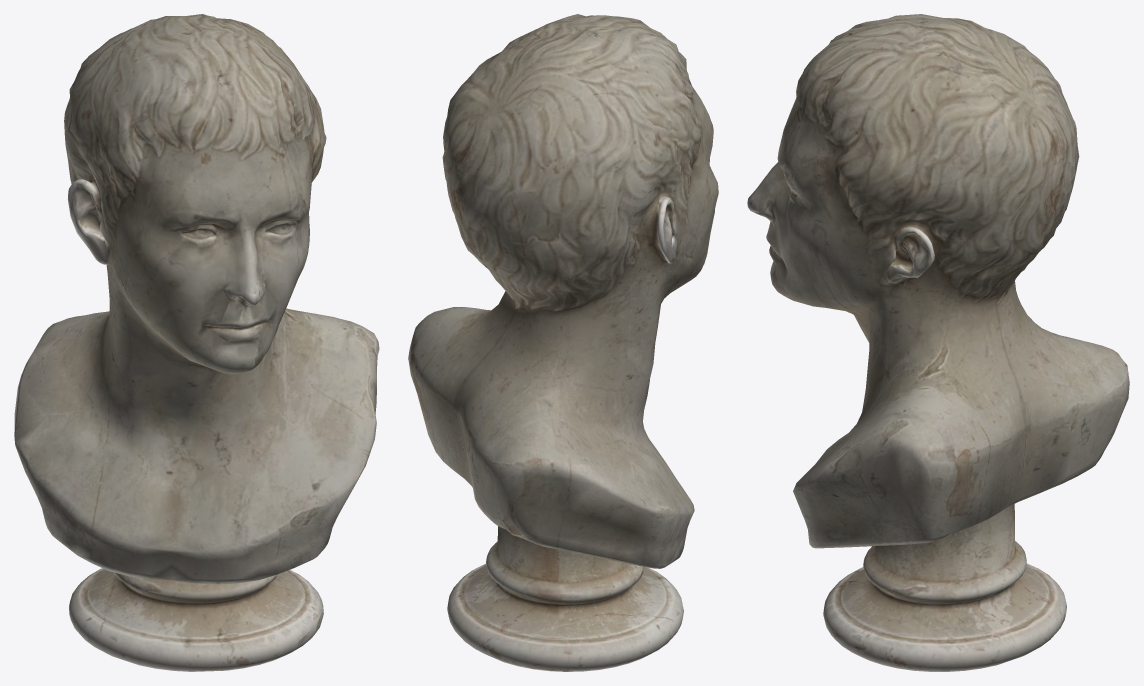
The model's file is marble_bust_01.glb.
The picture shows the model from 3 angles, left to right: view 1: azimuth 30°, elevation 25°; view 2: azimuth 150°, elevation 25°; view 3: azimuth 270°, elevation 25°; orthographic projection. The views are drawn at different scales.
Visible parts, largest first — view 1: marble_bust_01; view 2: marble_bust_01; view 3: marble_bust_01.
Part boxes in pixels (x1,y1,x2,y2): marble_bust_01: (14,14,379,671); marble_bust_01: (408,14,718,671); marble_bust_01: (747,14,1129,671).
Bounding box in the file's own units: 0.2717 × 0.5148 × 0.2997.
Materials: 1 (1 with a texture image).
